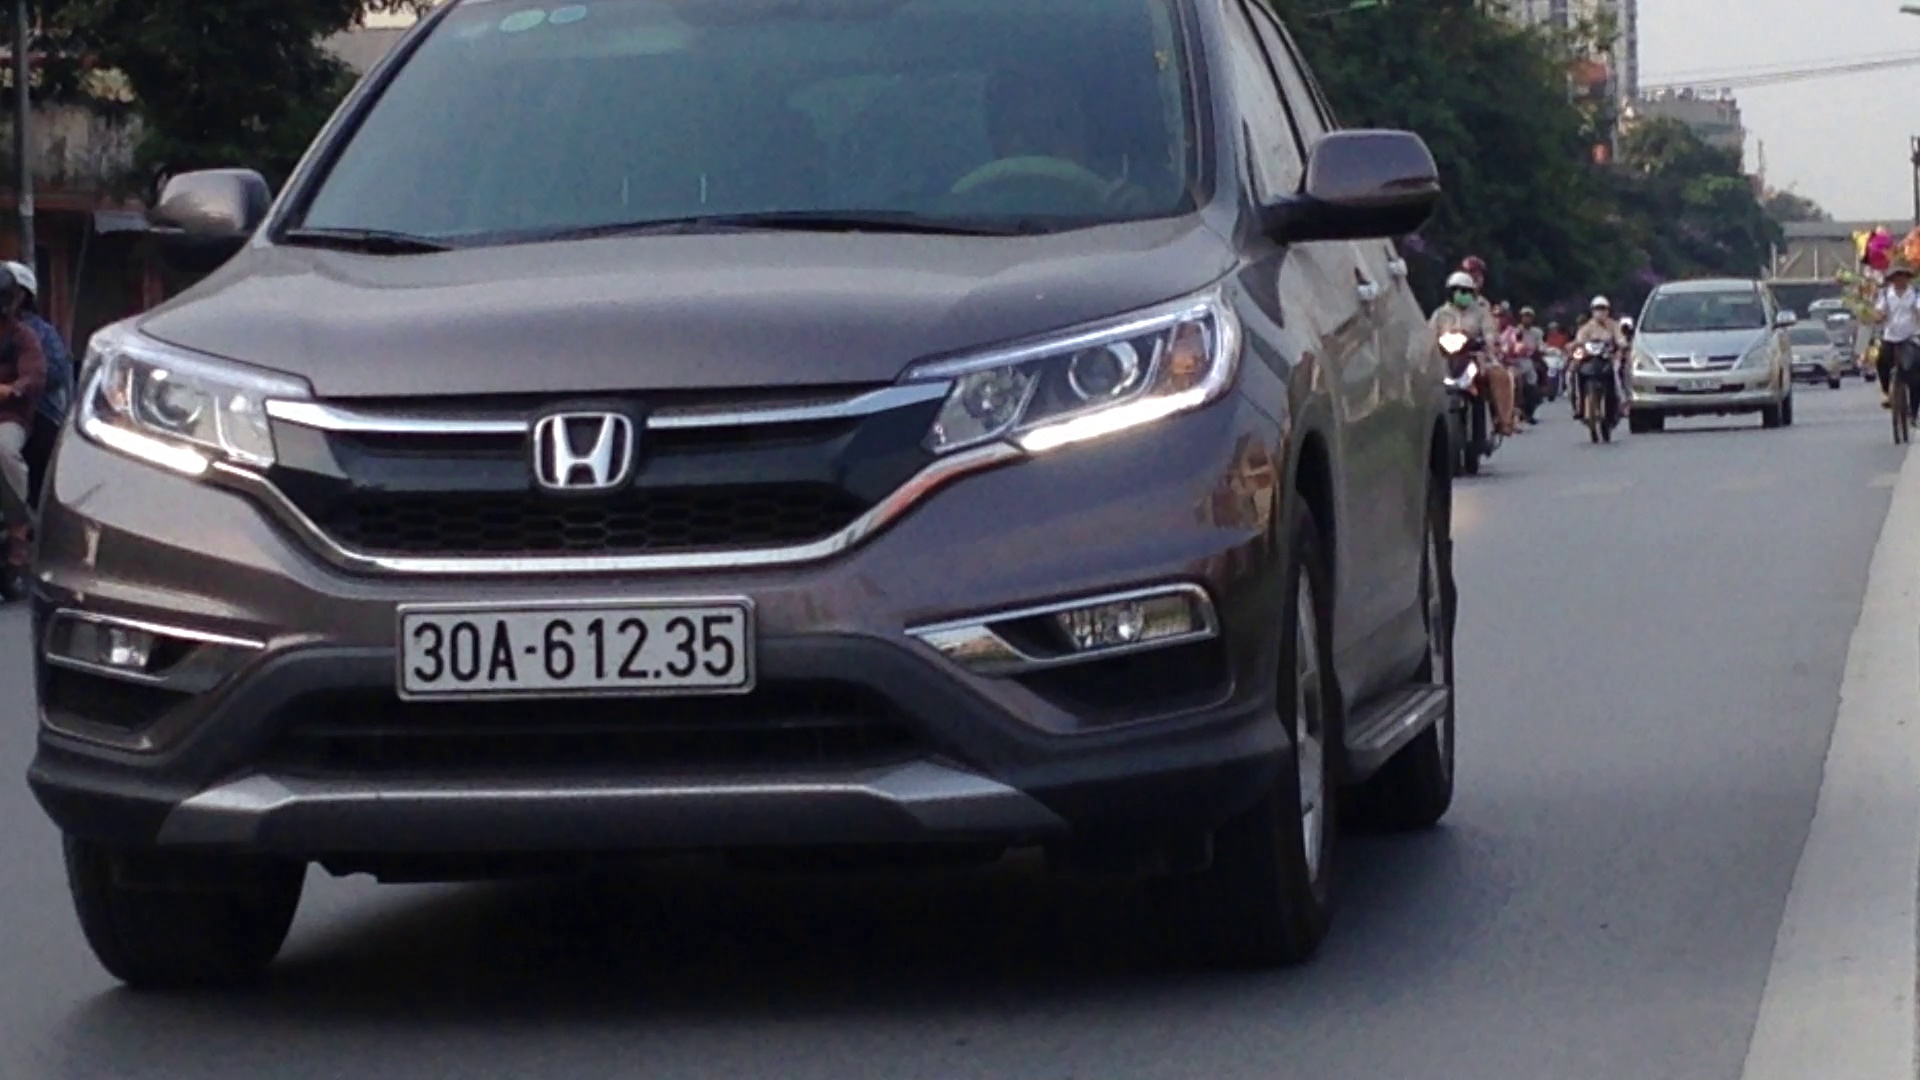vehicle-plate: (394, 589, 764, 702)
